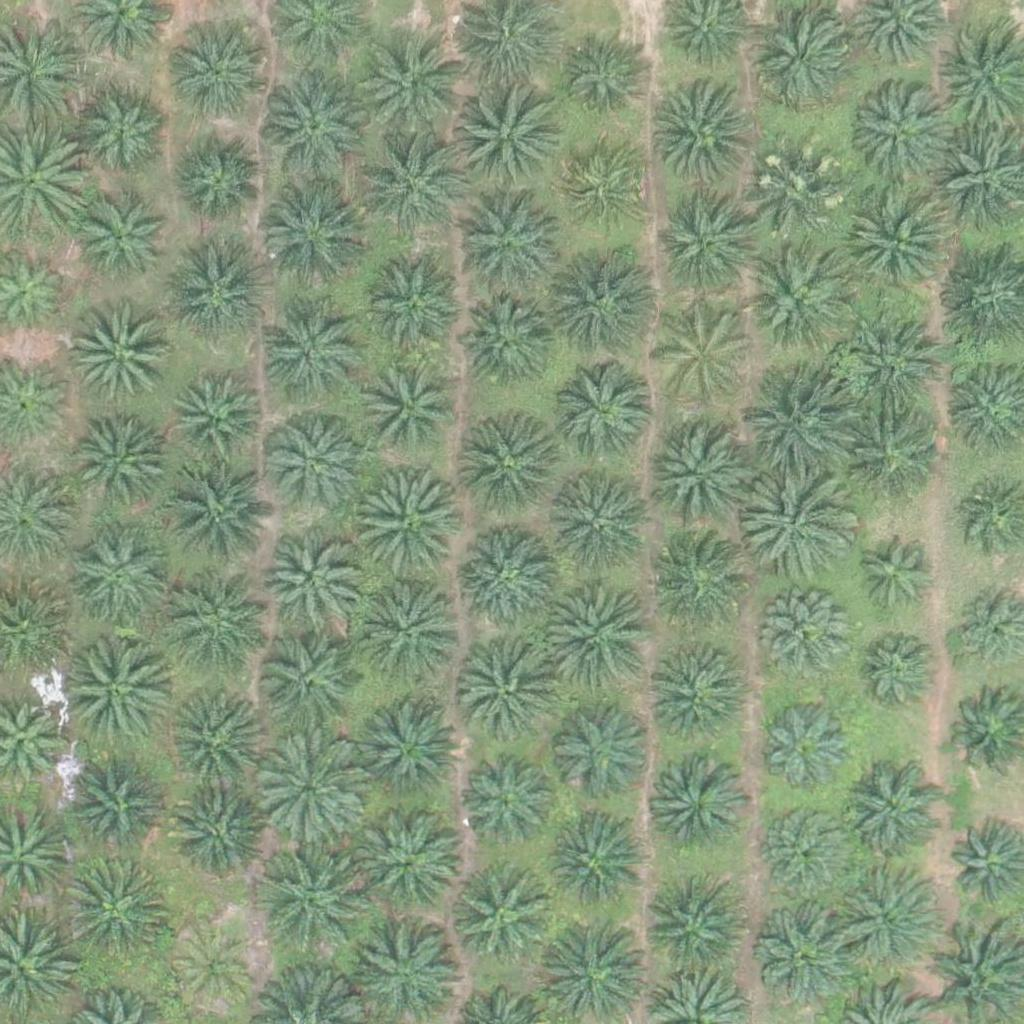Kelapa_Sawit: (252, 175, 365, 289), (251, 846, 364, 960), (52, 632, 165, 745), (251, 70, 364, 183), (351, 470, 464, 583), (353, 25, 466, 138), (447, 81, 560, 194), (543, 577, 656, 690), (259, 287, 371, 401), (549, 467, 661, 581), (742, 466, 854, 580), (742, 374, 854, 488), (161, 459, 273, 572), (252, 731, 364, 844), (353, 574, 465, 687), (356, 129, 468, 242), (553, 249, 665, 362), (652, 416, 764, 529), (827, 859, 939, 972), (60, 855, 172, 968), (67, 313, 167, 414), (66, 525, 166, 626), (57, 754, 157, 855), (160, 685, 260, 786), (170, 585, 270, 686), (166, 240, 266, 341), (170, 19, 270, 120), (264, 412, 364, 513), (261, 528, 361, 629), (359, 693, 459, 794), (361, 255, 461, 356), (360, 359, 460, 460), (457, 194, 557, 295), (454, 416, 554, 517), (460, 524, 560, 625), (459, 649, 559, 750), (552, 701, 652, 802), (559, 360, 659, 461), (653, 82, 753, 183), (650, 306, 750, 407), (645, 536, 745, 637), (649, 651, 749, 752), (650, 759, 750, 860), (750, 6, 850, 107), (747, 154, 847, 255), (852, 198, 952, 299), (847, 314, 947, 415), (845, 406, 945, 507), (758, 900, 858, 1001), (642, 881, 742, 982), (546, 813, 646, 914), (72, 411, 172, 511), (254, 635, 354, 735), (454, 294, 554, 394), (652, 197, 752, 297), (758, 698, 858, 798), (748, 253, 848, 353), (848, 88, 948, 188), (844, 762, 944, 862), (448, 863, 548, 963), (359, 812, 459, 912), (161, 782, 261, 882), (849, 629, 937, 718), (763, 805, 851, 894), (561, 142, 649, 230), (170, 925, 258, 1013), (846, 536, 933, 624), (76, 89, 163, 177), (80, 196, 167, 284), (171, 370, 258, 458), (174, 131, 261, 219), (462, 758, 549, 846), (559, 34, 646, 122), (765, 599, 852, 687)
